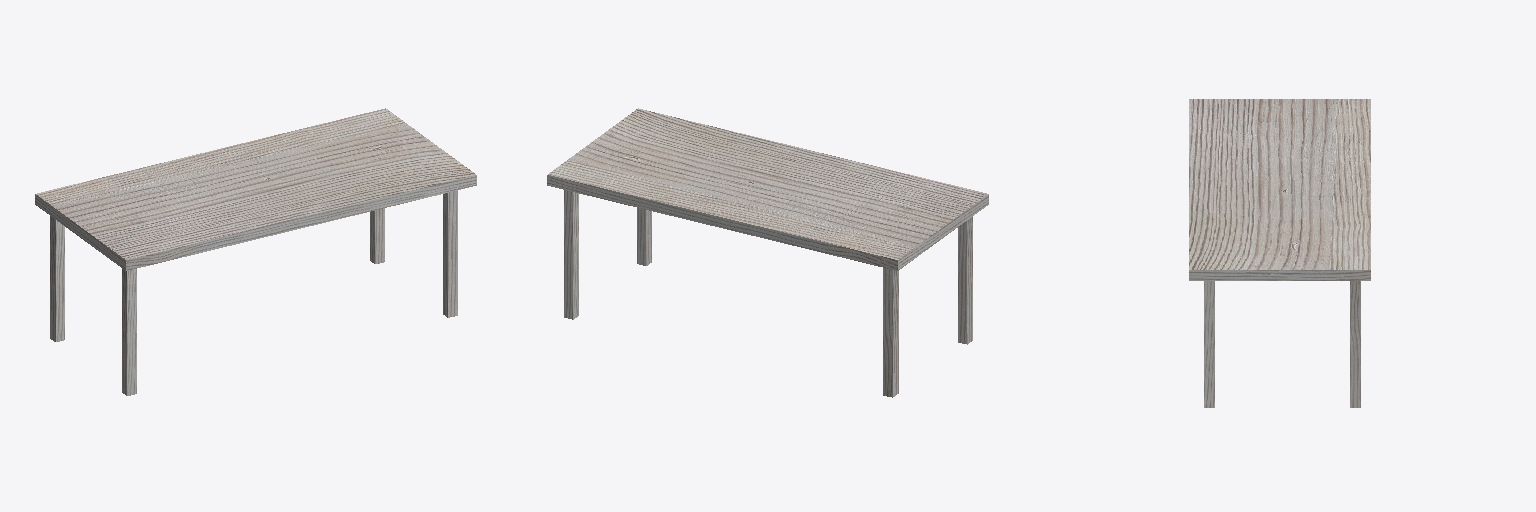
3 views of the same model, side by side, from view 1: azimuth 30°, elevation 25°; view 2: azimuth 150°, elevation 25°; view 3: azimuth 270°, elevation 25° (orthographic).
Parts seen in each view (by area): view 1: Cube.014; view 2: Cube.014; view 3: Cube.014.
Part boxes in pixels (bbox=[...]): Cube.014: bbox=[35, 108, 476, 395]; Cube.014: bbox=[547, 108, 988, 397]; Cube.014: bbox=[1189, 99, 1370, 407].
Size of the model in its own units: 3.07 by 1.2 by 1.38.
1 materials, 1 textured.